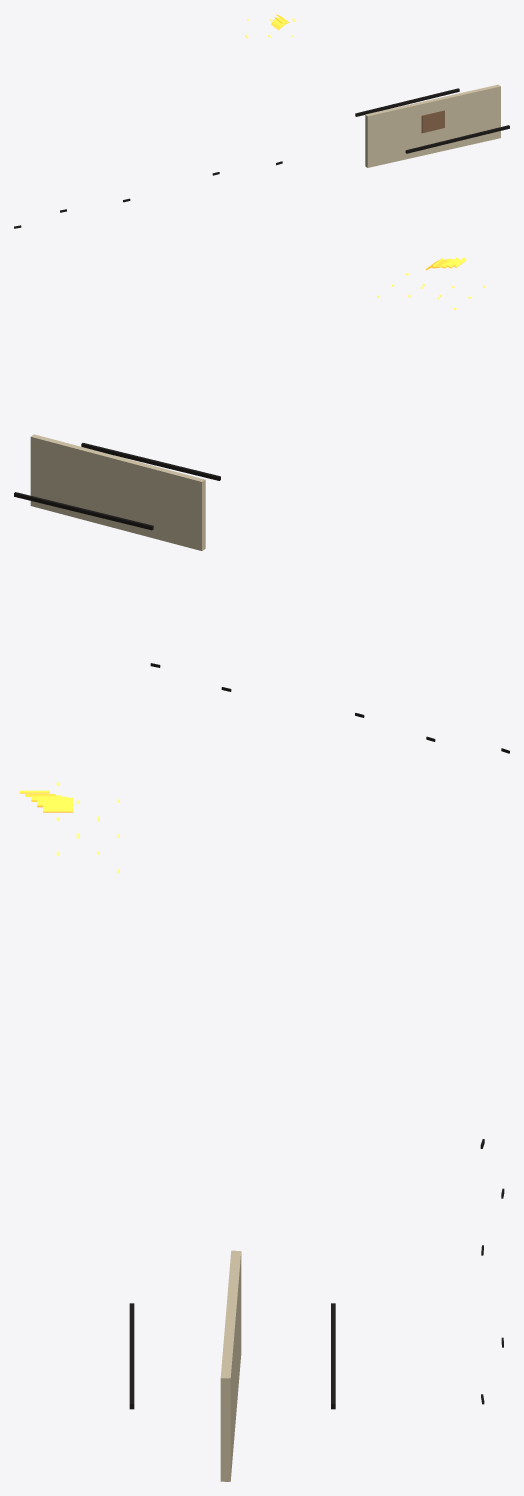
The model's file is ui_launch_scene_premium.glb.
The picture shows the model from 3 angles, top to bottom: view 1: azimuth 30°, elevation 25°; view 2: azimuth 150°, elevation 25°; view 3: azimuth 270°, elevation 25°; orthographic projection. The views are drawn at different scales.
Visible parts, largest first — view 1: quarantine_sign_panel_painted, quarantine_sign_dark_text_band_runtime_label.001, quarantine_sign_dark_text_band_runtime_label, quarantine_sign_biohazard_proxy_mark; view 2: quarantine_sign_panel_painted, quarantine_sign_dark_text_band_runtime_label, quarantine_sign_dark_text_band_runtime_label.001; view 3: quarantine_sign_panel_painted.
Boxes of the visible parts, x1,y1,x2,y2 form: quarantine_sign_panel_painted: [365, 84, 500, 167]; quarantine_sign_dark_text_band_runtime_label.001: [405, 125, 509, 153]; quarantine_sign_dark_text_band_runtime_label: [355, 88, 459, 116]; quarantine_sign_biohazard_proxy_mark: [421, 110, 444, 133]; quarantine_sign_panel_painted: [30, 434, 205, 550]; quarantine_sign_dark_text_band_runtime_label: [14, 492, 153, 530]; quarantine_sign_dark_text_band_runtime_label.001: [81, 443, 220, 480]; quarantine_sign_panel_painted: [220, 1250, 241, 1481].
Size of what is drawn, in the model's own units: 5.8 by 3.3 by 2.89.
